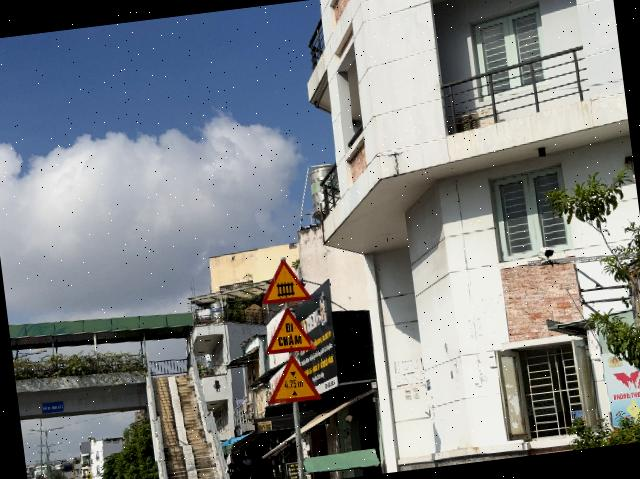chieu-cao-tinh-khong-thuc-te: (262, 351, 322, 406)
di-cham: (260, 305, 316, 356)
noi-giao-nhau-voi-duong-sat-co-rao-chan: (256, 256, 312, 306)
